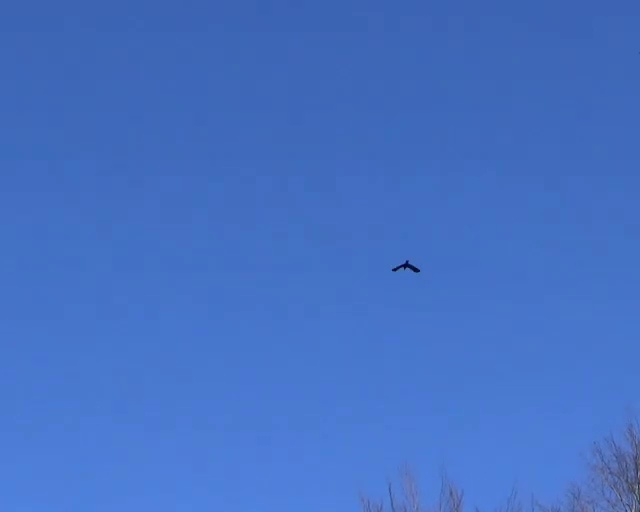BIRD: (392, 259, 420, 273)
